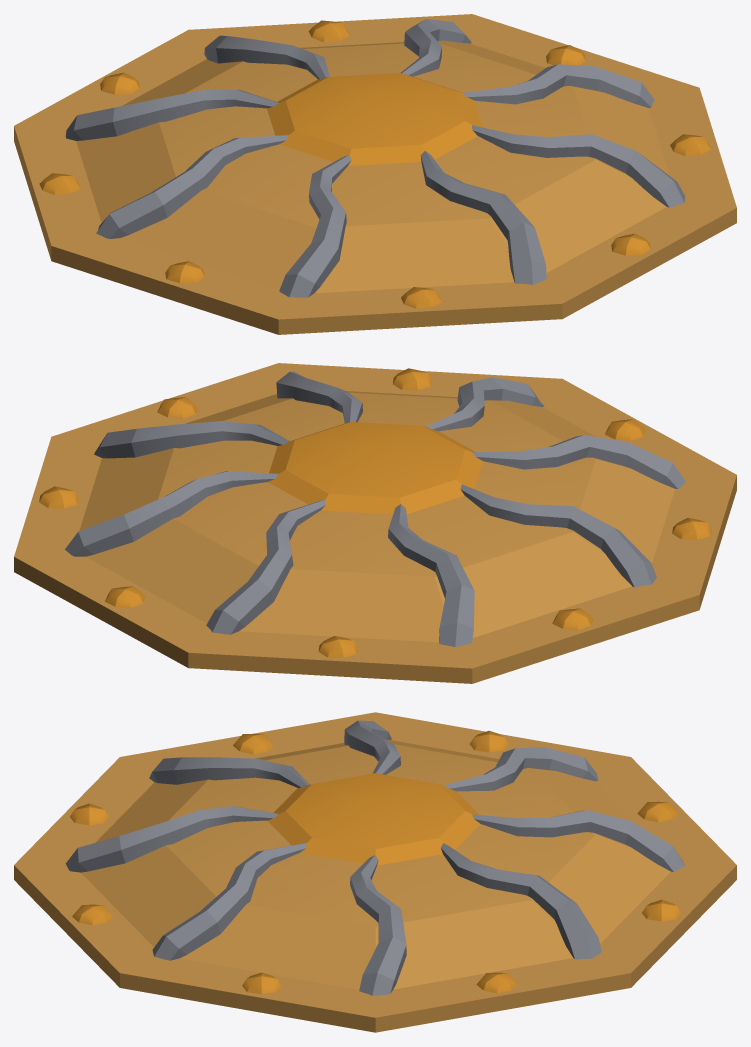
File: Shield.fbx
The picture shows the model from 3 angles, top to bottom: view 1: azimuth 30°, elevation 25°; view 2: azimuth 150°, elevation 25°; view 3: azimuth 270°, elevation 25°; orthographic projection. The views are drawn at different scales.
Parts seen in each view (by area): view 1: polySurface1; view 2: polySurface1; view 3: polySurface1.
Part boxes in pixels (bbox=[...]): polySurface1: bbox=[14, 14, 736, 334]; polySurface1: bbox=[14, 363, 736, 683]; polySurface1: bbox=[14, 712, 736, 1032].
Size of the model in its own units: 72.75 by 12.51 by 72.75.
1 material, 1 textured.
